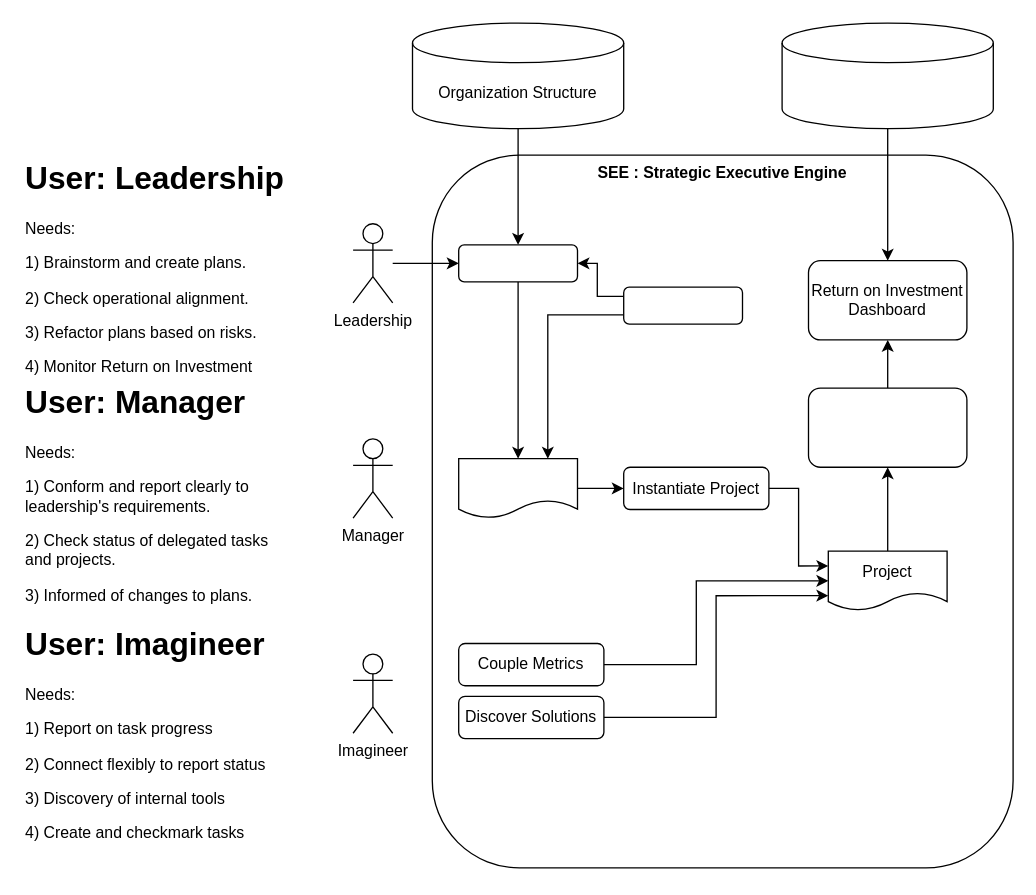
Some shapes in this 1036 by 895 pixel diagram are drawn without their labels. Here are the shapes that lost their labels. From the top down, the centre of each, then its label:
At (887,75): "Cost Data".
At (517,263): "Ideation Agent".
At (682,305): "Risk Critic".
At (887,427): "Progress Dashboard".
At (517,487): "Plan".
